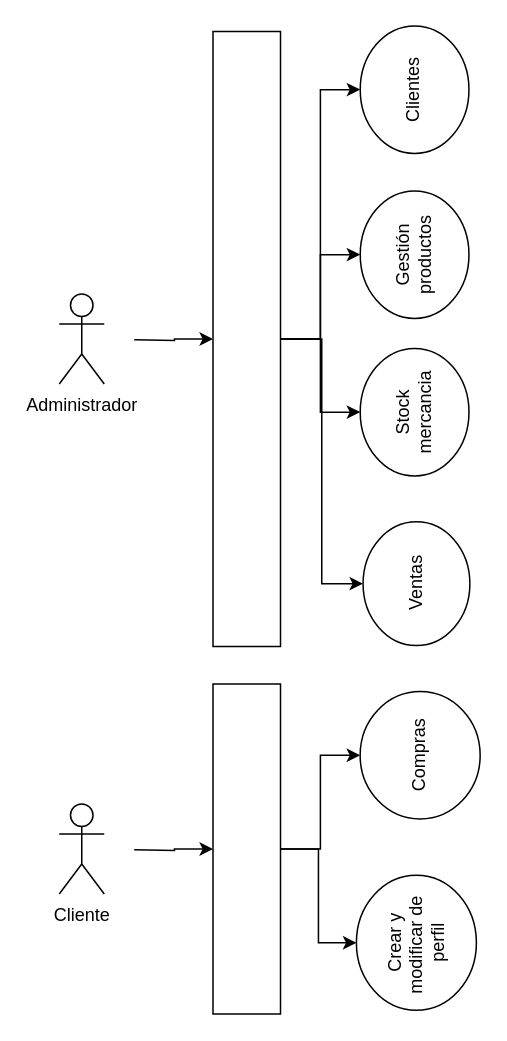
Some shapes in this 507 by 1041 pixel diagram are drawn without their labels. The shapes that lost their labels are listed below. From the top down, each one's box as (x1, y1, x2, y2) in pixels, then its label:
(212, 30, 280, 646): Modulo administrador
(212, 682, 280, 1014): Modulo cliente
